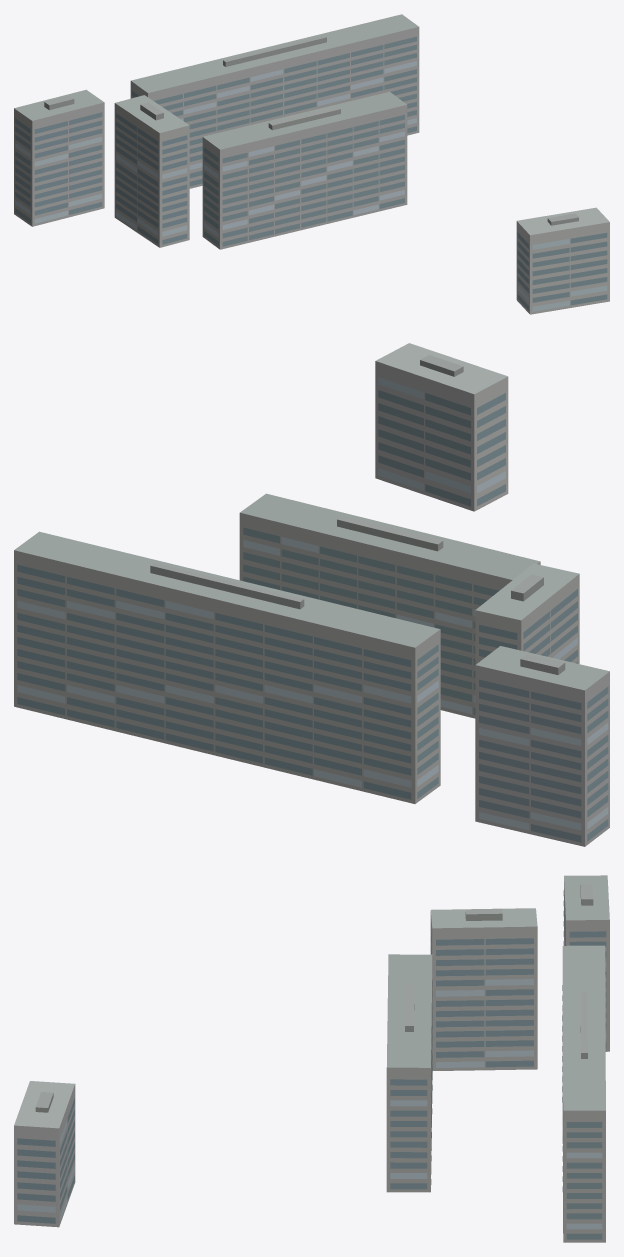
The model's file is apt-a13485401.glb.
3 views of the same model, one above another, from view 1: azimuth 30°, elevation 25°; view 2: azimuth 150°, elevation 25°; view 3: azimuth 270°, elevation 25° (orthographic). The views are drawn at different scales.
Parts seen in each view (by area): view 1: apt-a13485401; view 2: apt-a13485401; view 3: apt-a13485401.
Boxes of the visible parts, x1=… form: apt-a13485401: x1=14, y1=14, x2=609, y2=314; apt-a13485401: x1=14, y1=343, x2=609, y2=846; apt-a13485401: x1=14, y1=875, x2=609, y2=1242.
Bounding box in the file's own units: 132 × 39 × 141.
